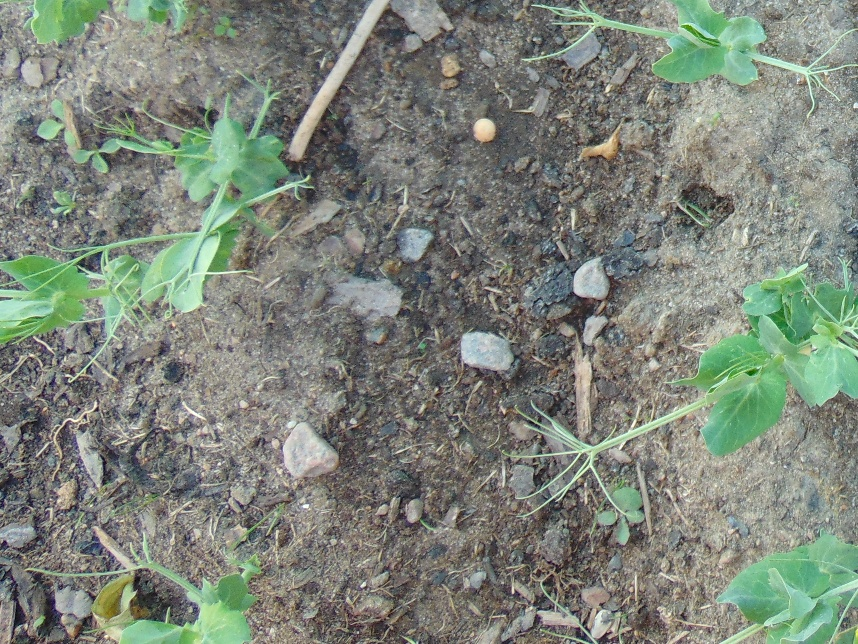crop: (548, 257, 858, 510), (1, 98, 309, 351), (553, 1, 844, 110), (73, 535, 270, 641), (700, 535, 858, 644), (20, 1, 189, 45)
weed: (598, 486, 642, 542), (73, 138, 122, 172), (40, 100, 77, 145), (213, 14, 237, 39)
